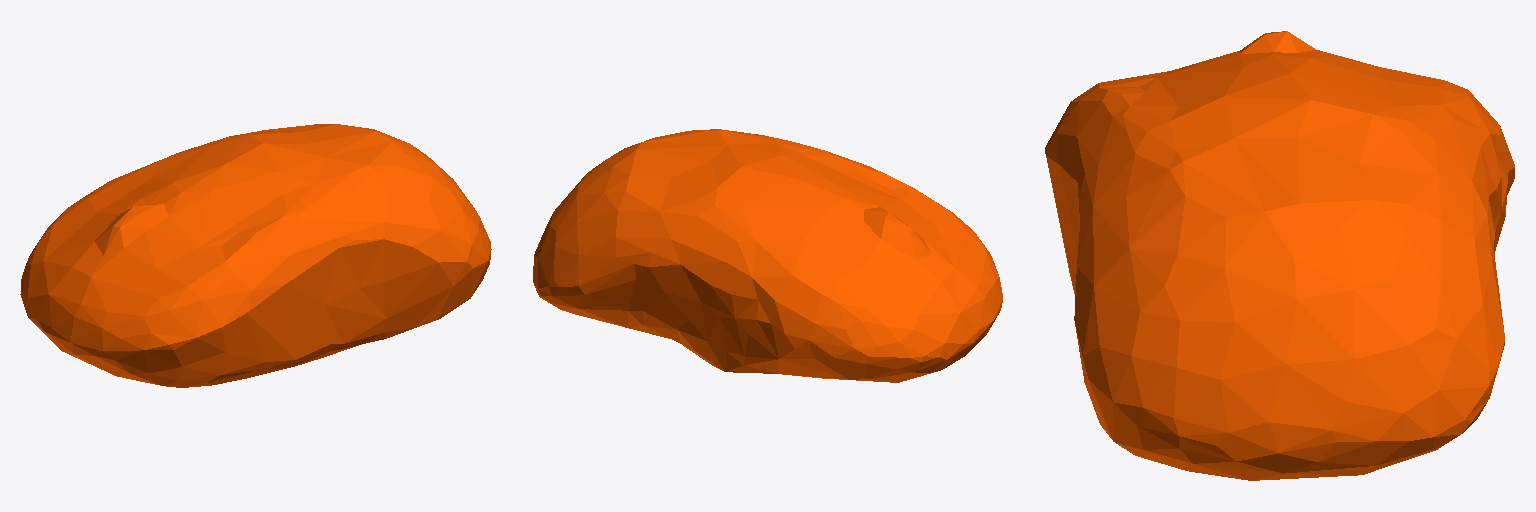
The robot description file, URDF, robot "mouse":
<?xml version="1.0" ?>
<robot name="mouse">
   <material name="obj_color">
      <color rgba="1.0 0.423529411765 0.0392156862745 1.0"/>
   </material>
   <link name="top">
      <inertial>
         <origin rpy="7.253706717782344e-05 0.0001650860379562167 0.000192317246988309" xyz="0.0001779292735219297 -0.0003176434391728606 -0.000335808941512636"/>
         <mass value="0.24875"/>
         <inertia ixx="7.273009990836201e-05" ixy="-1.888004077236987e-06" ixz="-4.273907180575996e-06" iyy="0.0001650924917365719" iyz="-1.194926087292591e-06" izz="0.0001921177604774151"/>
      </inertial>
      <visual>
         <origin rpy="0 0 0" xyz="0 0 0"/>
         <geometry>
            <mesh filename="top_watertight_tiny.stl" scale="1 1 1"/>
         </geometry>
         <material name="obj_color"/>
      </visual>
      <collision>
         <origin rpy="0 0 0" xyz="0 0 0"/>
         <geometry>
            <mesh filename="top_watertight_tiny.obj" scale="1 1 1"/>
         </geometry>
      </collision>
   </link>
   <link name="bottom">
      <inertial>
         <origin rpy="1.633333333194242e-08 1.633333333194243e-08 1.633333333357667e-08" xyz="0.3464080000000008 0.3464080000000008 0.3464080000000008"/>
         <mass value="0.0009800000000000017"/>
         <inertia ixx="1.633333333248717e-08" ixy="5.447480642029219e-19" ixz="5.447480642029219e-19" iyy="1.633333333248717e-08" iyz="5.447480642029219e-19" izz="1.633333333248717e-08"/>
      </inertial>
      <visual>
         <origin rpy="0 0 0" xyz="0 0 0"/>
         <geometry>
            <mesh filename="bottom_watertight_tiny.stl" scale="1 1 1"/>
         </geometry>
         <material name="obj_color"/>
      </visual>
   </link>
   <joint name="rotation" type="revolute">
      <origin xyz="0 0 0"/>
      <axis xyz="0 0 -1"/>
      <parent link="bottom"/>
      <child link="top"/>
      <dynamics damping="1.0" friction="1.0"/>
      <limit effort="0.1" velocity="0.1" lower="0" upper="0.001"/>
   </joint>
</robot>

--- Render facts (derived) ---
Views: 3 orthographic renders of the robot side by side, from view 1: azimuth 30°, elevation 25°; view 2: azimuth 150°, elevation 25°; view 3: azimuth 270°, elevation 25°.
Model mouse with 2 links and 1 joints (1 revolute), rooted at bottom, posed every joint at zero.
Visible links, largest first — view 1: top; view 2: top; view 3: top.
Boxes of the visible links, x1,y1,x2,y2 form: top: (20,124,491,387); top: (533,129,1002,382); top: (1045,31,1514,480).
Size in the robot's own frame: 0.1011 by 0.0617 by 0.0425 metres.
1 mesh visuals loaded from 2 distinct referenced files (1 binary STL); not drawn: 1 (reference not matched to a file when rendering).